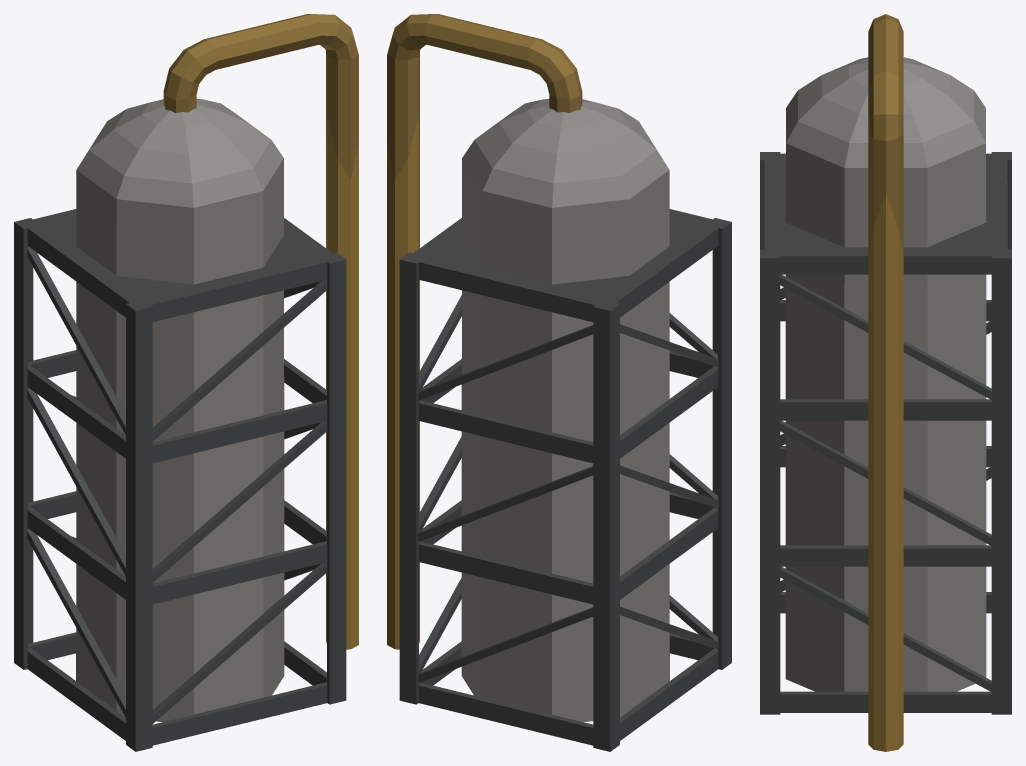
File: SM_Props_Industrial_Tank_02.fbx
3 views of the same model, side by side, from view 1: azimuth 30°, elevation 25°; view 2: azimuth 150°, elevation 25°; view 3: azimuth 270°, elevation 25° (orthographic). The views are drawn at different scales.
Parts seen in each view (by area): view 1: SM_Props_Industrial_Tank_02; view 2: SM_Props_Industrial_Tank_02; view 3: SM_Props_Industrial_Tank_02.
Part boxes in pixels (box(x1,y1,x2,y2)): SM_Props_Industrial_Tank_02: box(14, 14, 358, 751); SM_Props_Industrial_Tank_02: box(387, 14, 731, 751); SM_Props_Industrial_Tank_02: box(760, 14, 1011, 751).
Size of the model in its own units: 603 by 1299 by 450.
